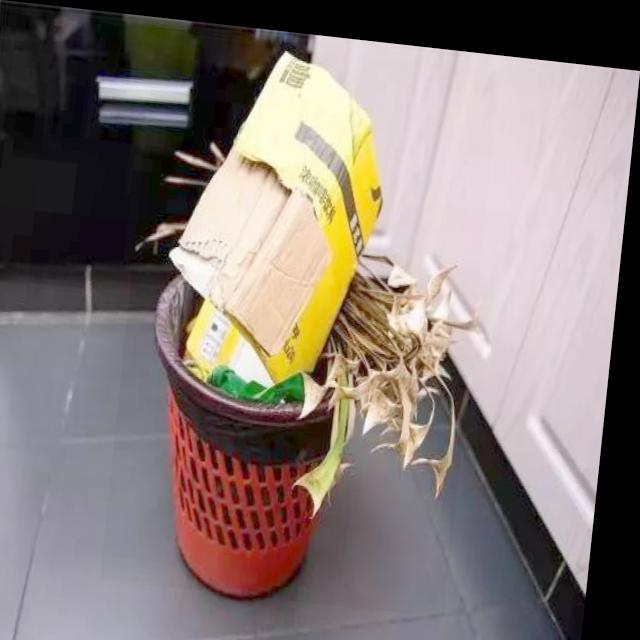overflow: (112, 30, 501, 606)
